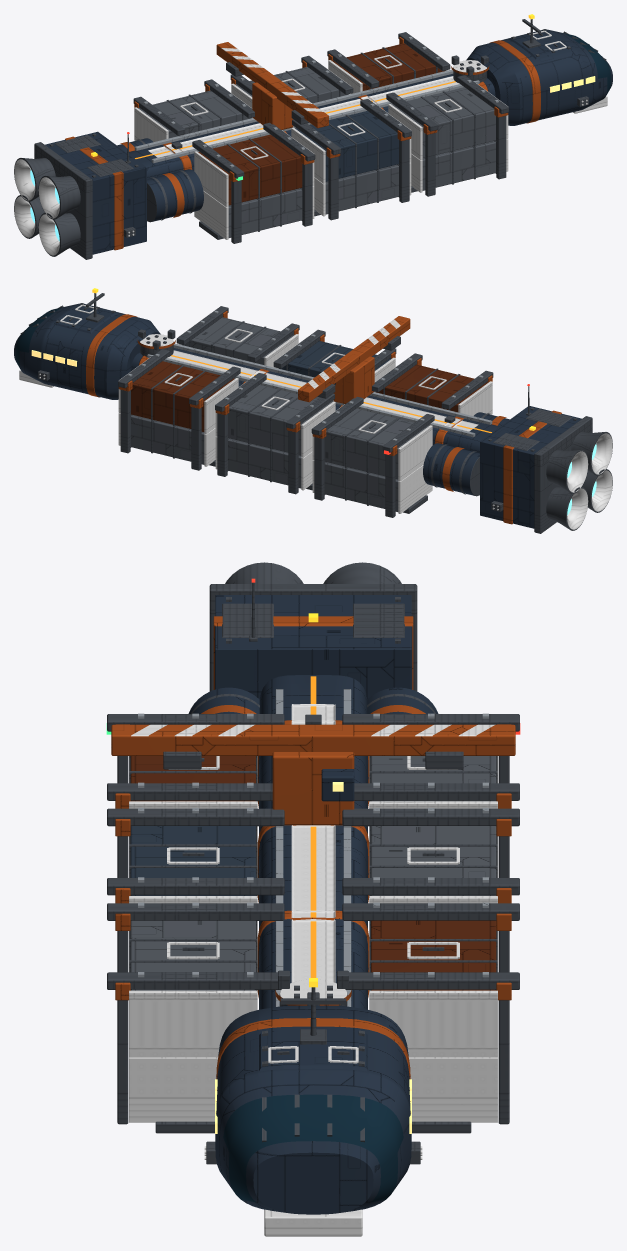
File: atlas_production_v1.glb
3 renders of one model, top to bottom at view 1: azimuth 30°, elevation 25°; view 2: azimuth 150°, elevation 25°; view 3: azimuth 270°, elevation 25°, orthographic. The views are drawn at different scales.
Parts seen in each view (by area): view 1: LOD0_MOTION_HULL_CORE_Mechanical, LOD0_MOTION_HULL_CORE_Hull, LOD0_MOTION_HULL_CORE_Armor, LOD0_MOTION_HULL_CORE_MechanicalDark, LOD0_MOTION_HULL_CORE_Armor_orange, LOD0_MOTION_HULL_CORE_Armor_navy, LOD0_MOTION_HULL_CORE_HOOK_SECONDARY_CRANE_Warning, LOD0_MOTION_HULL_CORE_BrushedMetal, LOD0_MOTION_HULL_CORE_Livery, LOD0_MOTION_HULL_CORE_Warning, LOD0_MOTION_HULL_CORE_CANOPY, LOD0_MOTION_HULL_CORE_Lights_Cyan_orange (+1 smaller); view 2: LOD0_MOTION_HULL_CORE_Mechanical, LOD0_MOTION_HULL_CORE_Hull, LOD0_MOTION_HULL_CORE_Armor, LOD0_MOTION_HULL_CORE_MechanicalDark, LOD0_MOTION_HULL_CORE_Armor_orange, LOD0_MOTION_HULL_CORE_HOOK_SECONDARY_CRANE_Warning, LOD0_MOTION_HULL_CORE_BrushedMetal, LOD0_MOTION_HULL_CORE_Livery, LOD0_MOTION_HULL_CORE_Armor_navy, LOD0_MOTION_HULL_CORE_Warning, LOD0_MOTION_HULL_CORE_CANOPY, LOD0_MOTION_HULL_CORE_Lights_Cyan_orange; view 3: LOD0_MOTION_HULL_CORE_Mechanical, LOD0_MOTION_HULL_CORE_Hull, LOD0_MOTION_HULL_CORE_MechanicalDark, LOD0_MOTION_HULL_CORE_HOOK_SECONDARY_CRANE_Warning, LOD0_MOTION_HULL_CORE_Armor, LOD0_MOTION_HULL_CORE_CANOPY, LOD0_MOTION_HULL_CORE_Armor_orange, LOD0_MOTION_HULL_CORE_Armor_navy, LOD0_MOTION_HULL_CORE_Livery, LOD0_MOTION_HULL_CORE_BrushedMetal, LOD0_MOTION_HULL_CORE_Warning, LOD0_MOTION_HULL_CORE_HOOK_SECONDARY_CRANE_Mechanical (+4 smaller).
Boxes of the visible parts, <box> form: LOD0_MOTION_HULL_CORE_Mechanical: <box>14,29,606,259</box>; LOD0_MOTION_HULL_CORE_Hull: <box>45,29,612,254</box>; LOD0_MOTION_HULL_CORE_Armor: <box>138,67,495,237</box>; LOD0_MOTION_HULL_CORE_MechanicalDark: <box>14,30,607,255</box>; LOD0_MOTION_HULL_CORE_Armor_orange: <box>198,43,445,205</box>; LOD0_MOTION_HULL_CORE_Armor_navy: <box>295,111,398,181</box>; LOD0_MOTION_HULL_CORE_HOOK_SECONDARY_CRANE_Warning: <box>216,42,328,129</box>; LOD0_MOTION_HULL_CORE_BrushedMetal: <box>134,37,498,167</box>; LOD0_MOTION_HULL_CORE_Livery: <box>65,40,540,250</box>; LOD0_MOTION_HULL_CORE_Warning: <box>134,37,508,181</box>; LOD0_MOTION_HULL_CORE_CANOPY: <box>564,33,611,95</box>; LOD0_MOTION_HULL_CORE_Lights_Cyan_orange: <box>135,81,455,158</box>; LOD0_MOTION_HULL_CORE_Mechanical: <box>20,303,612,533</box>; LOD0_MOTION_HULL_CORE_Hull: <box>14,303,581,528</box>; LOD0_MOTION_HULL_CORE_Armor: <box>131,317,428,511</box>; LOD0_MOTION_HULL_CORE_MechanicalDark: <box>19,304,612,529</box>; LOD0_MOTION_HULL_CORE_Armor_orange: <box>131,361,488,431</box>; LOD0_MOTION_HULL_CORE_HOOK_SECONDARY_CRANE_Warning: <box>298,316,410,403</box>; LOD0_MOTION_HULL_CORE_BrushedMetal: <box>128,311,492,441</box>; LOD0_MOTION_HULL_CORE_Livery: <box>86,314,561,524</box>; LOD0_MOTION_HULL_CORE_Armor_navy: <box>278,341,391,377</box>; LOD0_MOTION_HULL_CORE_Warning: <box>118,311,492,455</box>; LOD0_MOTION_HULL_CORE_CANOPY: <box>15,307,62,369</box>; LOD0_MOTION_HULL_CORE_Lights_Cyan_orange: <box>171,355,491,432</box>; LOD0_MOTION_HULL_CORE_Mechanical: <box>107,562,519,1164</box>; LOD0_MOTION_HULL_CORE_Hull: <box>188,595,438,1214</box>; LOD0_MOTION_HULL_CORE_MechanicalDark: <box>129,704,497,1236</box>; LOD0_MOTION_HULL_CORE_HOOK_SECONDARY_CRANE_Warning: <box>111,724,515,825</box>; LOD0_MOTION_HULL_CORE_Armor: <box>130,756,496,990</box>; LOD0_MOTION_HULL_CORE_CANOPY: <box>223,1094,403,1202</box>; LOD0_MOTION_HULL_CORE_Armor_orange: <box>130,756,496,990</box>; LOD0_MOTION_HULL_CORE_Armor_navy: <box>130,826,255,895</box>; LOD0_MOTION_HULL_CORE_Livery: <box>201,616,425,1079</box>; LOD0_MOTION_HULL_CORE_BrushedMetal: <box>138,689,488,1006</box>; LOD0_MOTION_HULL_CORE_Warning: <box>115,724,511,1005</box>; LOD0_MOTION_HULL_CORE_HOOK_SECONDARY_CRANE_Mechanical: <box>163,751,463,769</box>.
Size of what is drawn, in the model's own units: 23.72 by 4.49 by 7.58.
16 materials, 9 textured.
